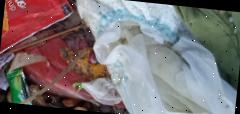general: (0, 0, 240, 114), (0, 0, 76, 60), (2, 65, 36, 104)
